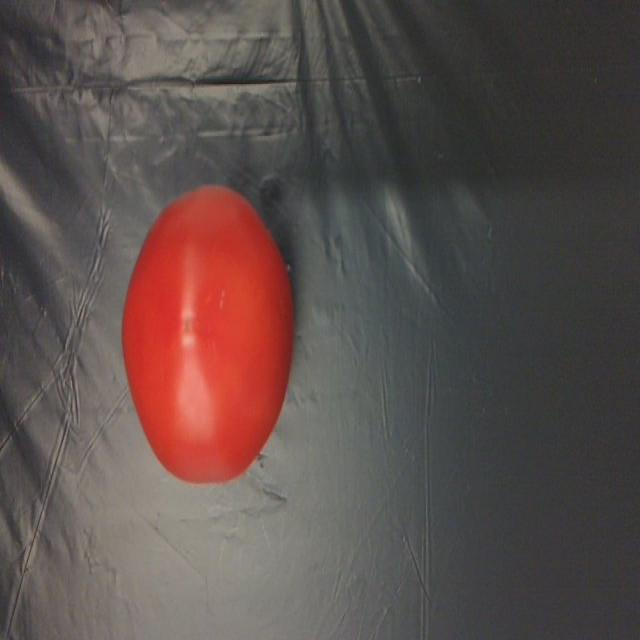kirmizi: (122, 179, 294, 484)
